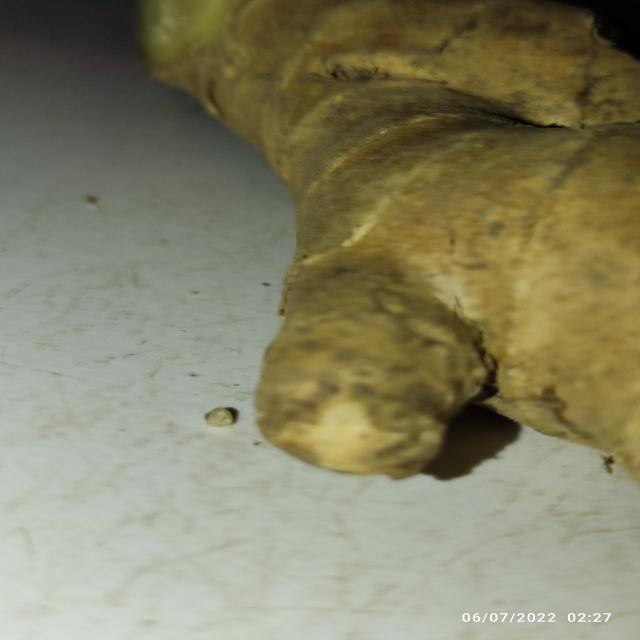ginger: (229, 0, 640, 466)
